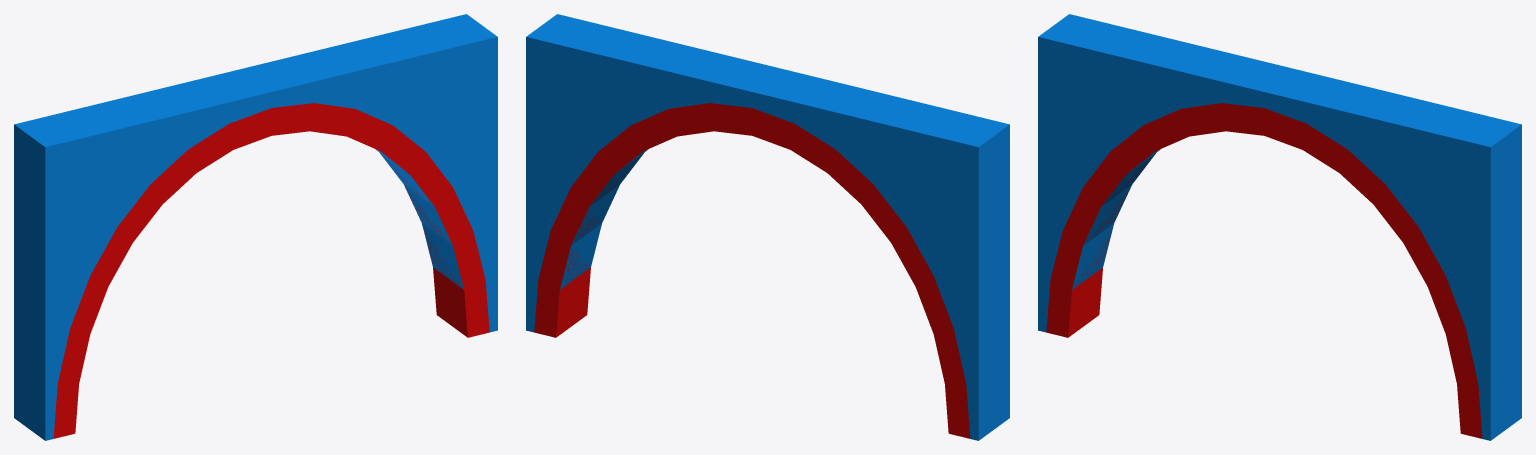
The picture shows the model from 3 angles, left to right: view 1: azimuth 30°, elevation 25°; view 2: azimuth 150°, elevation 25°; view 3: azimuth 330°, elevation 25°; orthographic projection.
Parts seen in each view (by area): view 1: Cylinder.002; view 2: Cylinder.002; view 3: Cylinder.002.
Boxes of the visible parts, x1,y1,x2,y2 form: Cylinder.002: [14, 14, 497, 440]; Cylinder.002: [526, 14, 1009, 440]; Cylinder.002: [1038, 14, 1521, 440].
Bounding box in the file's own units: 132 × 81.67 × 16.37.
